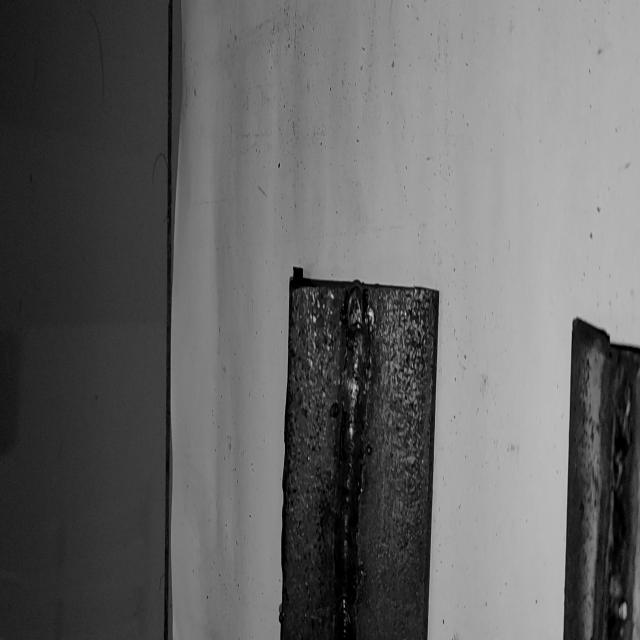Good Weld: (333, 287, 367, 640)
